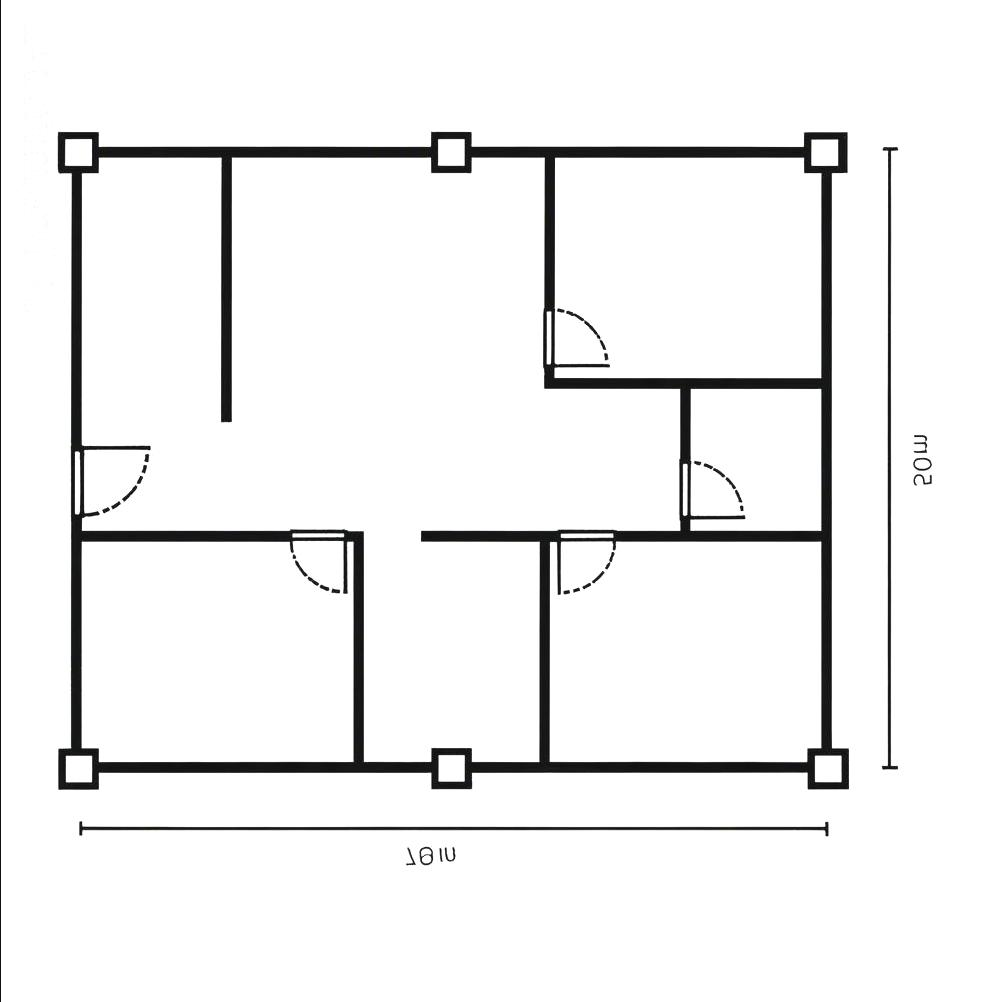Blueprint: (50, 126, 858, 796)
wall: (817, 172, 835, 747), (469, 759, 806, 777), (96, 759, 432, 776), (97, 144, 431, 161), (470, 144, 804, 160), (68, 173, 86, 448), (542, 374, 820, 391), (219, 156, 234, 423), (70, 528, 292, 545), (536, 542, 552, 763), (68, 515, 83, 750), (612, 528, 820, 544), (352, 540, 367, 760), (542, 159, 557, 312), (418, 529, 558, 544), (344, 528, 366, 542), (542, 364, 555, 378)
